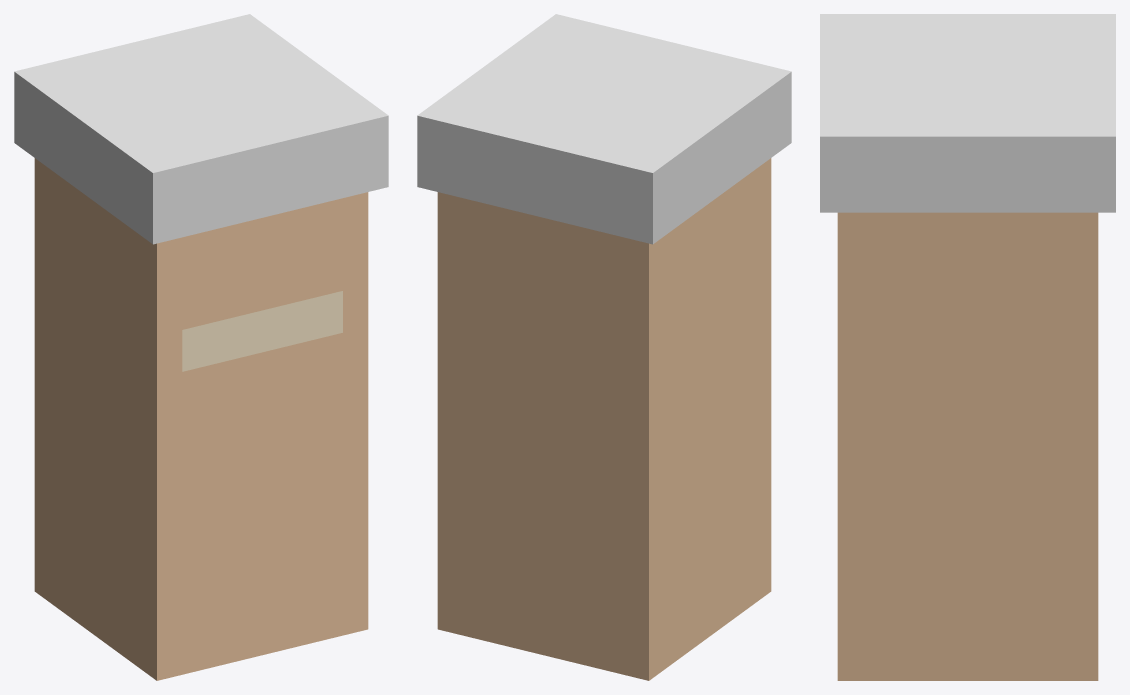
File: tablets.fbx
3 renders of one model, left to right at view 1: azimuth 30°, elevation 25°; view 2: azimuth 150°, elevation 25°; view 3: azimuth 270°, elevation 25°, orthographic. The views are drawn at different scales.
Visible parts, largest first — view 1: Cube_40_1; view 2: Cube_40_1; view 3: Cube_40_1.
Boxes of the visible parts, x1,y1,x2,y2 form: Cube_40_1: (14, 14, 388, 680); Cube_40_1: (417, 14, 791, 680); Cube_40_1: (820, 14, 1115, 680).
Size of the model in its own units: 4.63 by 9.69 by 4.72.
